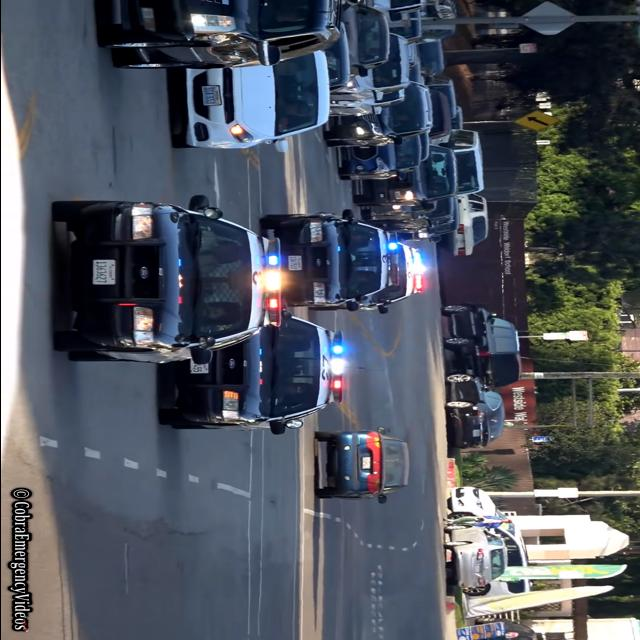emergency-vehicles: (35, 182, 278, 372), (157, 307, 350, 438), (272, 209, 396, 321), (354, 238, 432, 322)
